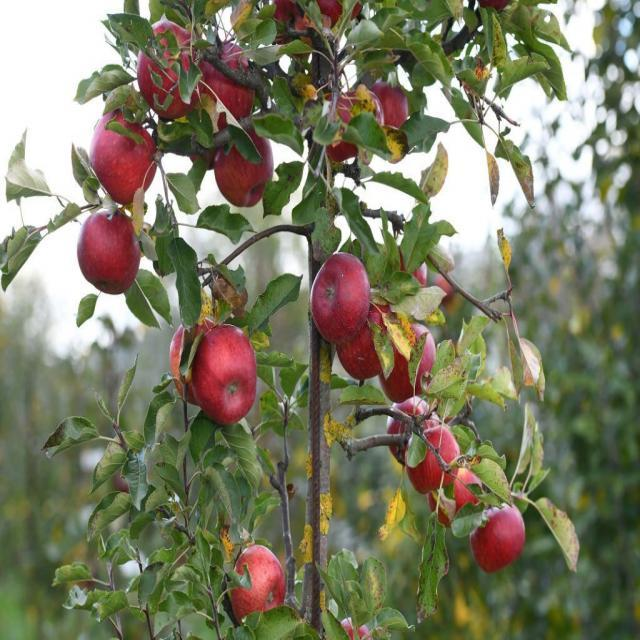Red Apple: (96, 116, 156, 199), (201, 45, 256, 129), (145, 23, 196, 109), (314, 255, 363, 341), (202, 331, 252, 414), (81, 211, 134, 289), (235, 551, 286, 626), (341, 304, 389, 378), (225, 129, 273, 196), (392, 326, 435, 399), (478, 510, 523, 571), (435, 466, 475, 522), (395, 400, 433, 455), (416, 427, 456, 477), (339, 93, 374, 139), (376, 80, 405, 132)
